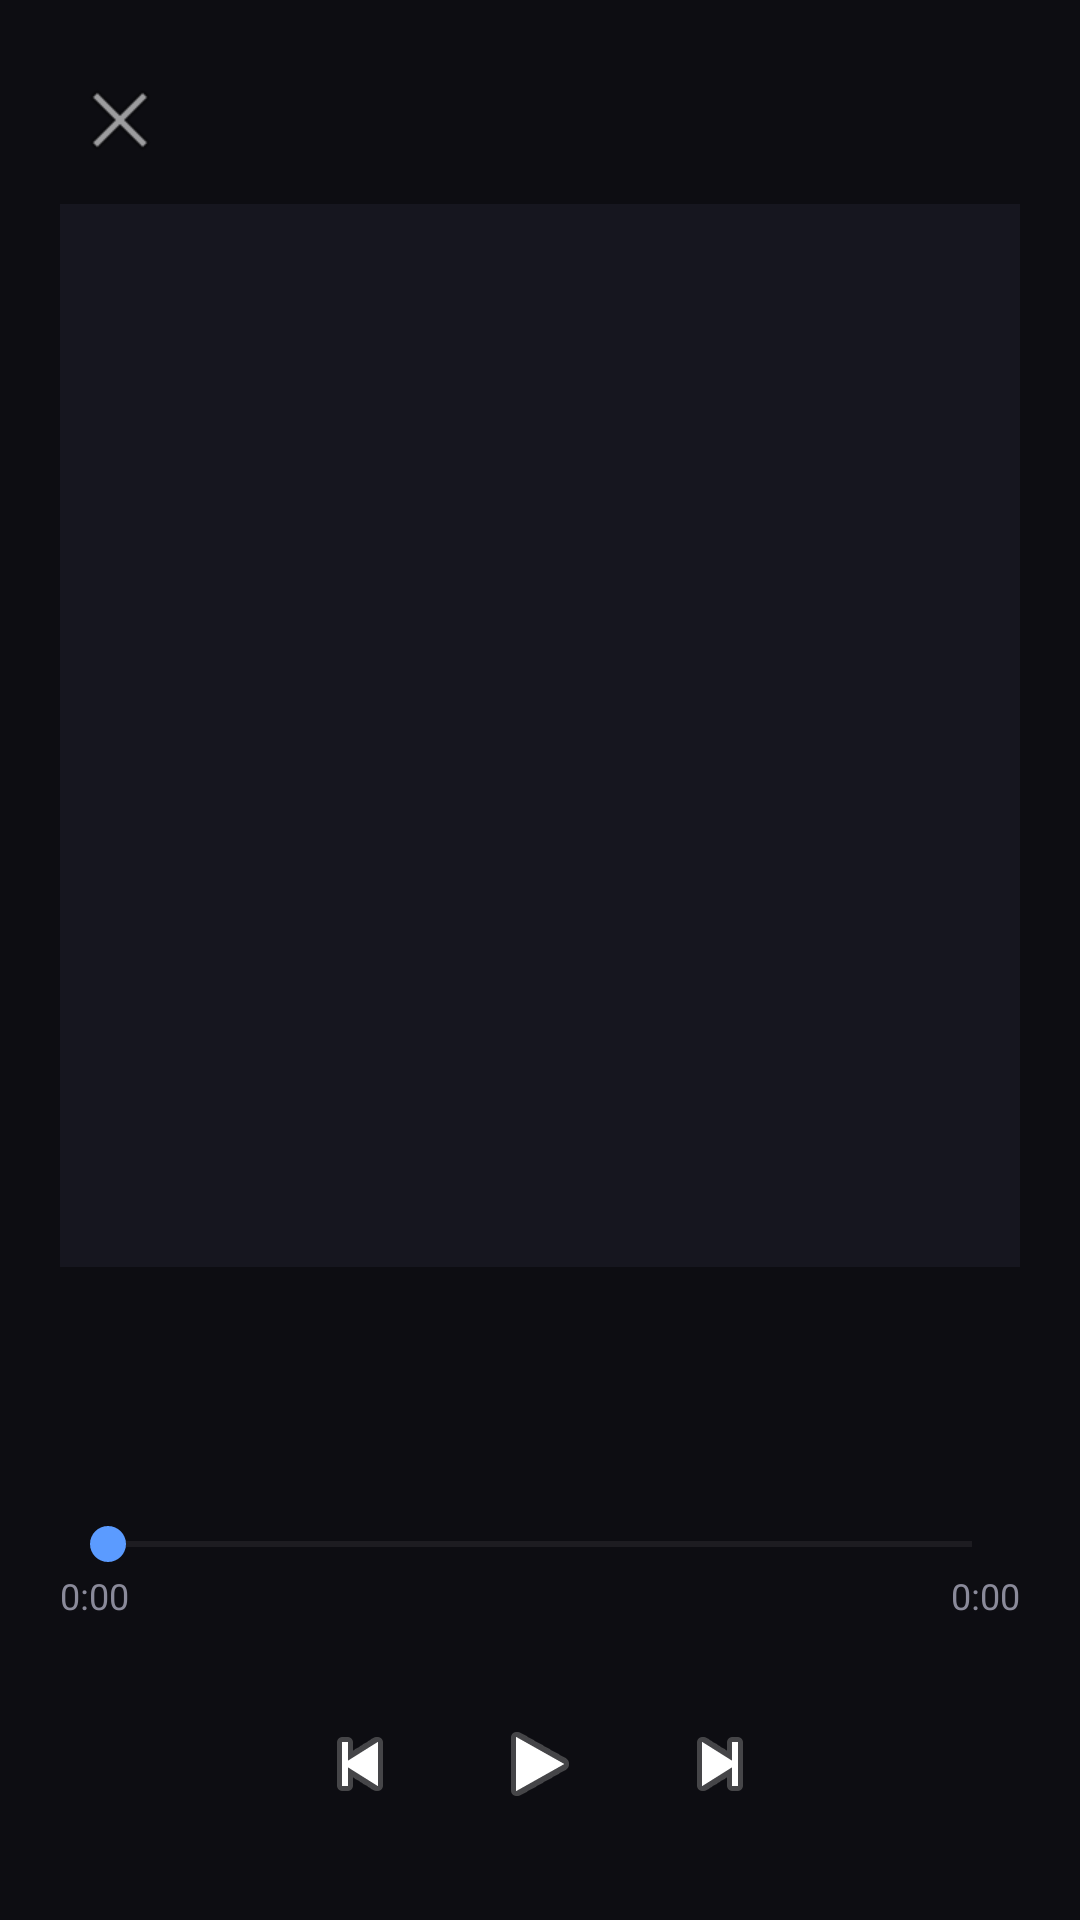

Named icons in this screenshot (1080*1920) and their centers, [x,y]:
Play/Pause: [540,1764]
Закрыть: [120,120]
Предыдущий: [360,1764]
Следующий: [720,1764]
